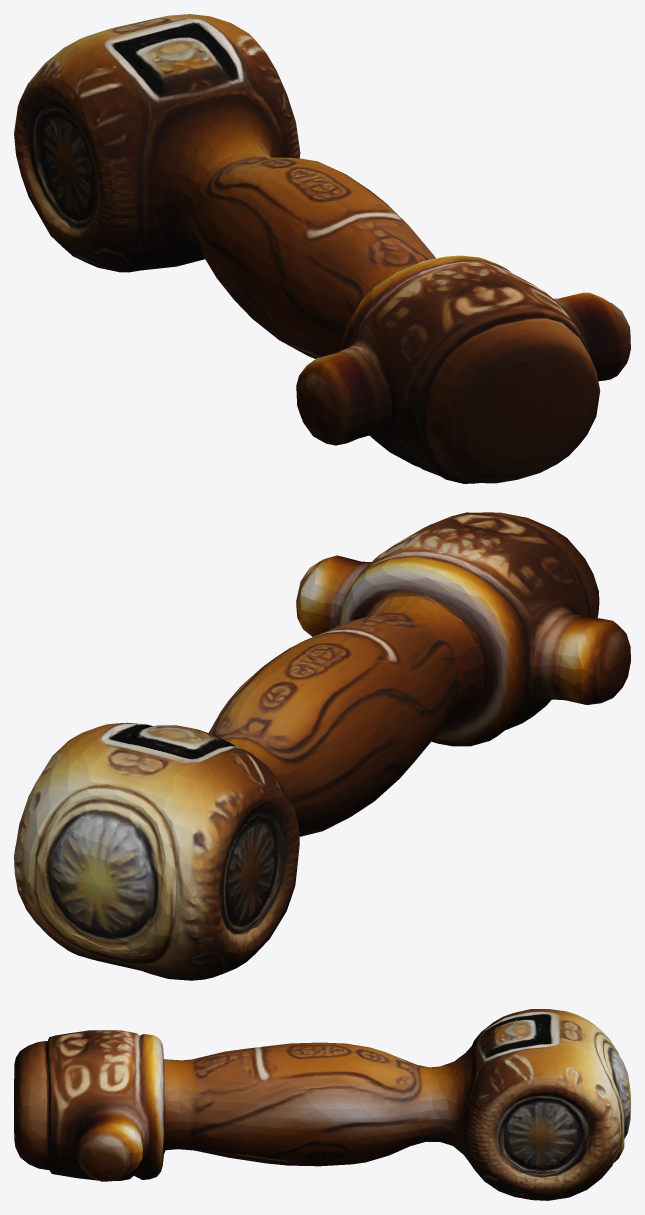
The model's file is wooden-massage-roller-vintage.jpeg.glb.
3 views of the same model, one above another, from view 1: azimuth 30°, elevation 25°; view 2: azimuth 150°, elevation 25°; view 3: azimuth 270°, elevation 25° (orthographic). The views are drawn at different scales.
Visible parts, largest first — view 1: world; view 2: world; view 3: world.
Boxes of the visible parts, left/top/right/bottom form: world: left=14, top=14, right=630, bottom=483; world: left=14, top=512, right=630, bottom=980; world: left=14, top=1009, right=630, bottom=1200.
Bounding box in the file's own units: 0.4202 × 0.2711 × 0.9984.
1 material, 1 textured.
